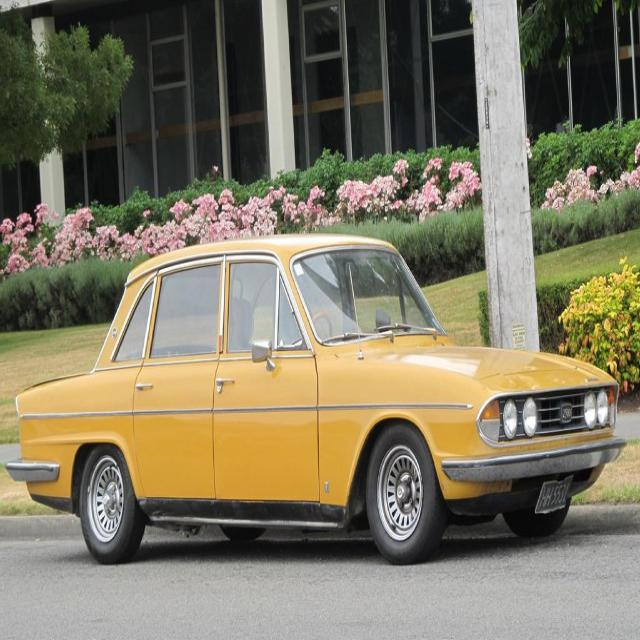car: (4, 233, 627, 566)
